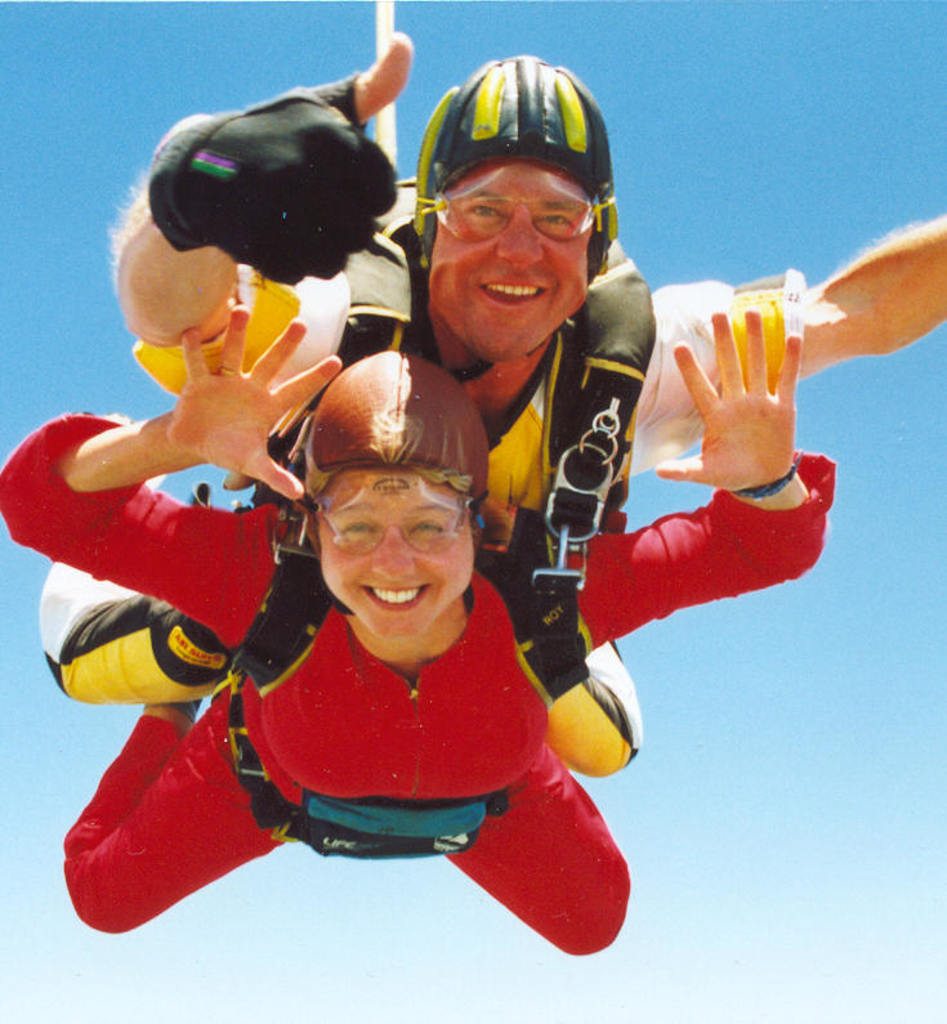Human_hand: (156, 28, 400, 284), (166, 301, 343, 498), (653, 308, 796, 481)
